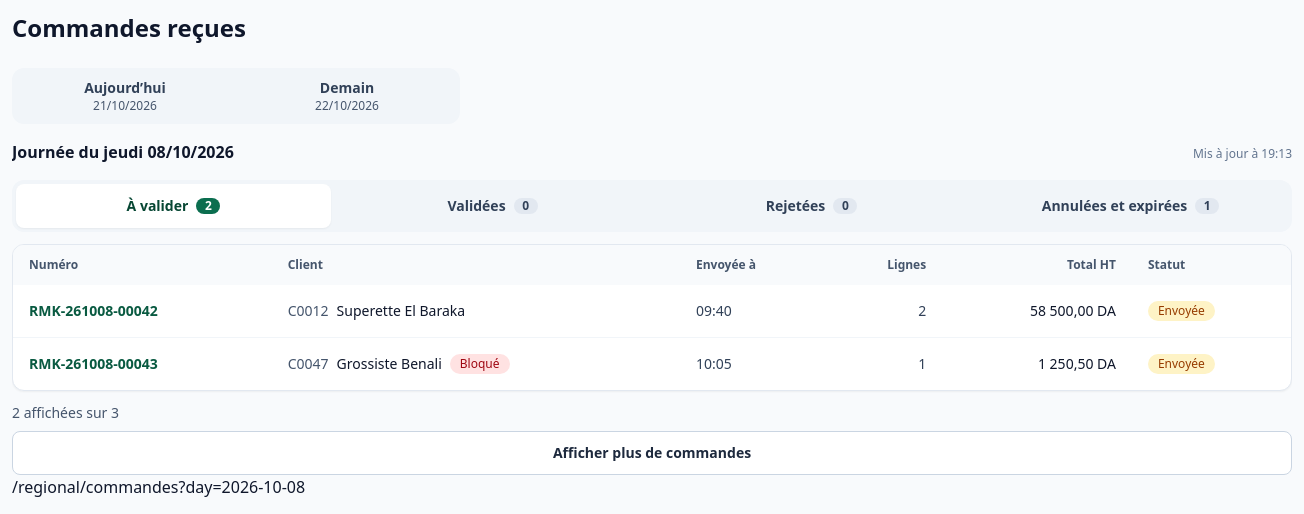
regional orders — list › loads the next pages on demand
Check: the text "2 affichées sur 3" is shown, box [12,403,119,422]
Click the button "Afficher plus de commandes".
click(652, 453)  # box [12,431,1292,475]
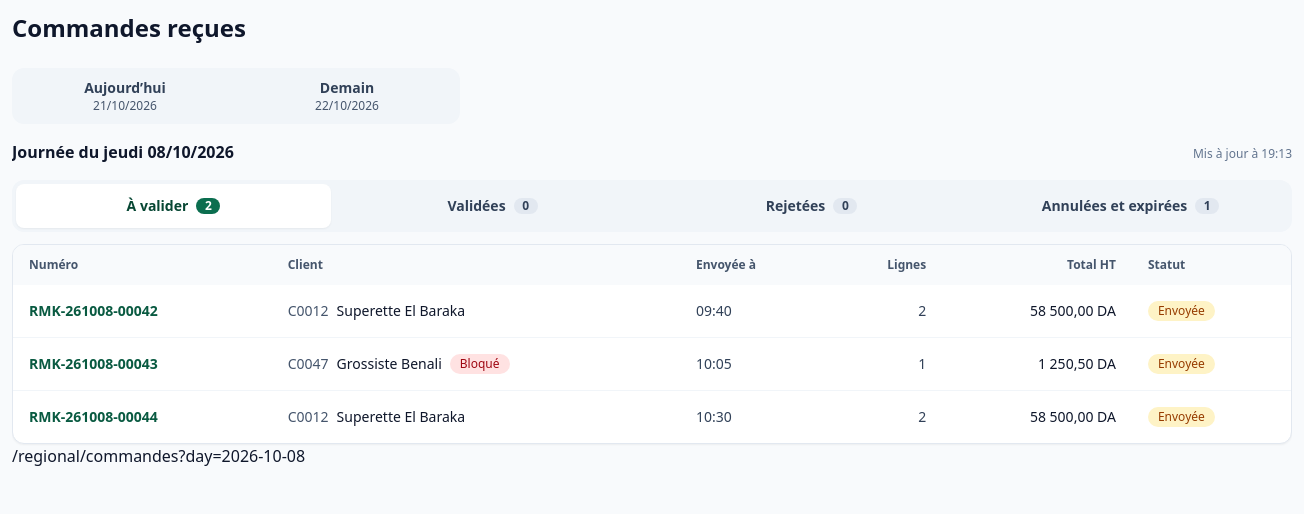
Check: the button "Afficher plus de commandes" is gone
